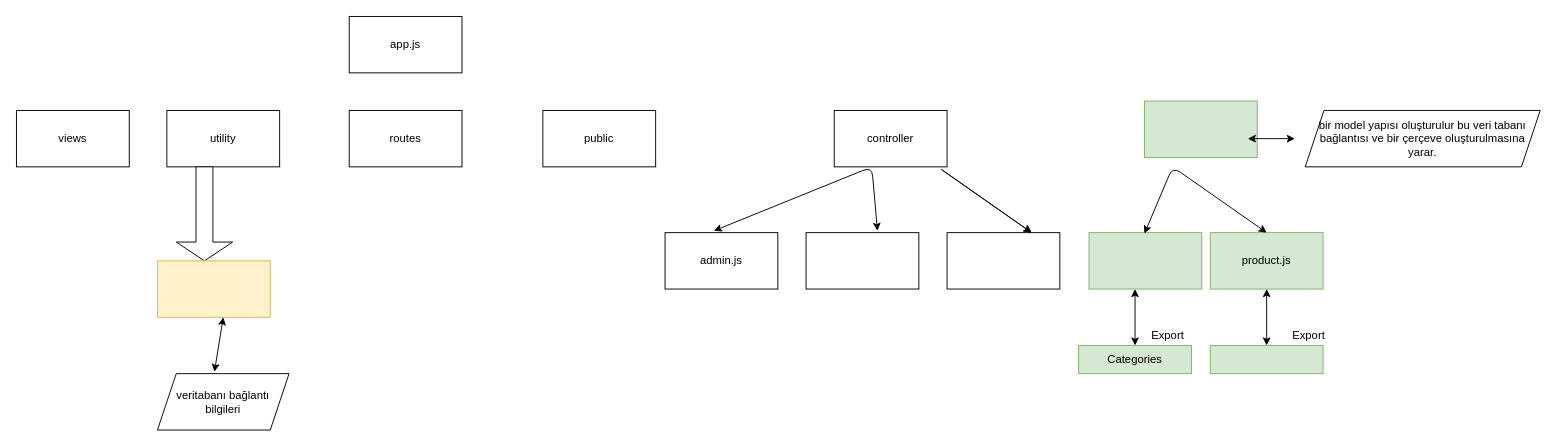
The diagram is 1557 pixels wide and 447 high, and some of its shapes have lost their labels. The centre of each missing label's shape, as x and y in pixels:
"category.js" belongs at pixel 1145 260.
"database.js" belongs at pixel 213 288.
"error.js" belongs at pixel 1003 260.
"models" belongs at pixel 1200 128.
"Product" belongs at pixel 1266 359.
"shop.js" belongs at pixel 862 260.
